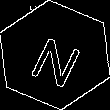N_NE: (24, 24, 86, 86)
